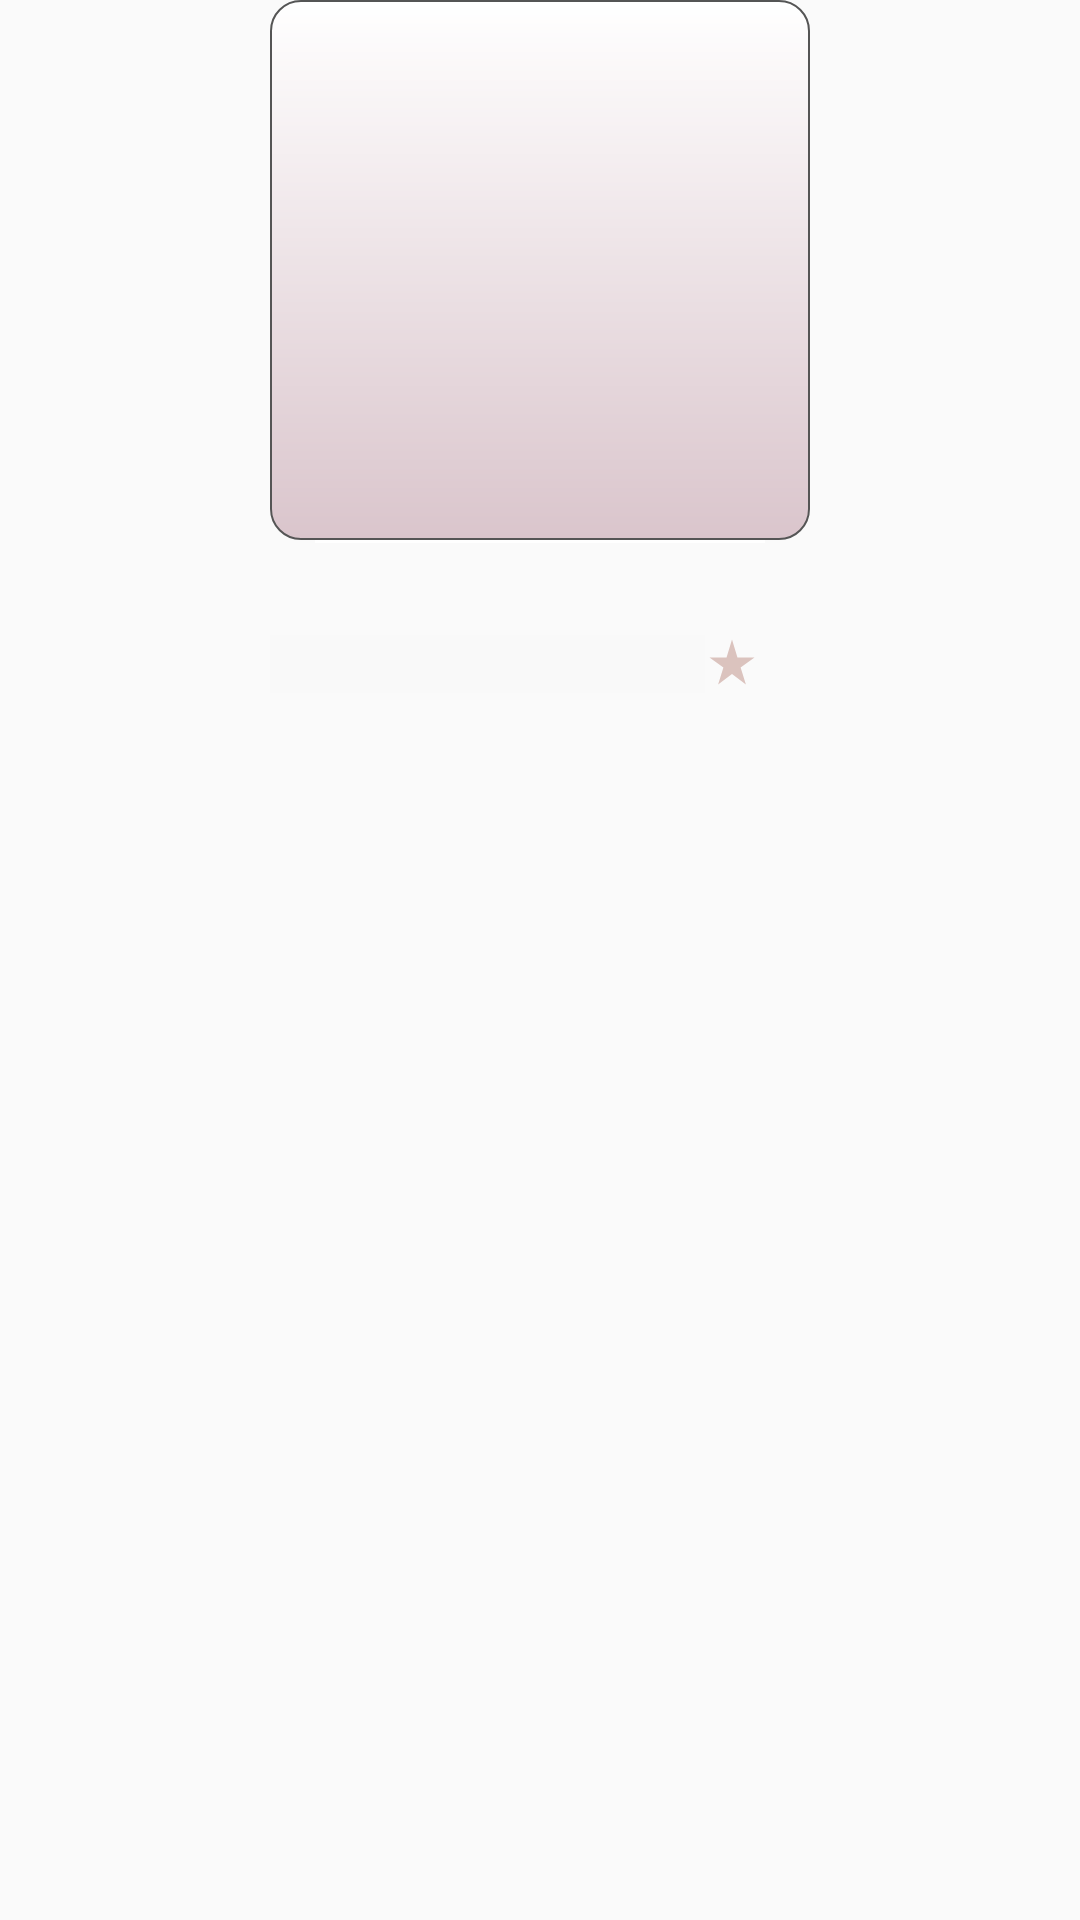

Icons on this 1080w x 1920h Android screen, each with its box as (x1, y1, x2, y2):
star: (710, 641, 754, 684)
